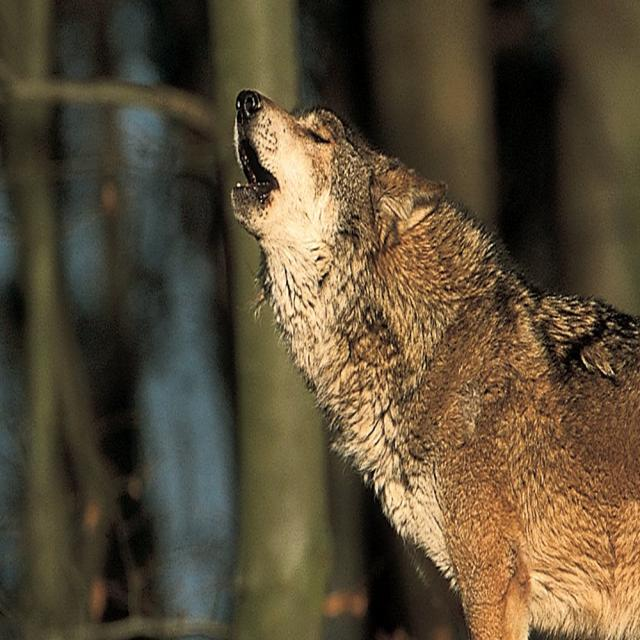wolf: (191, 58, 639, 640)
